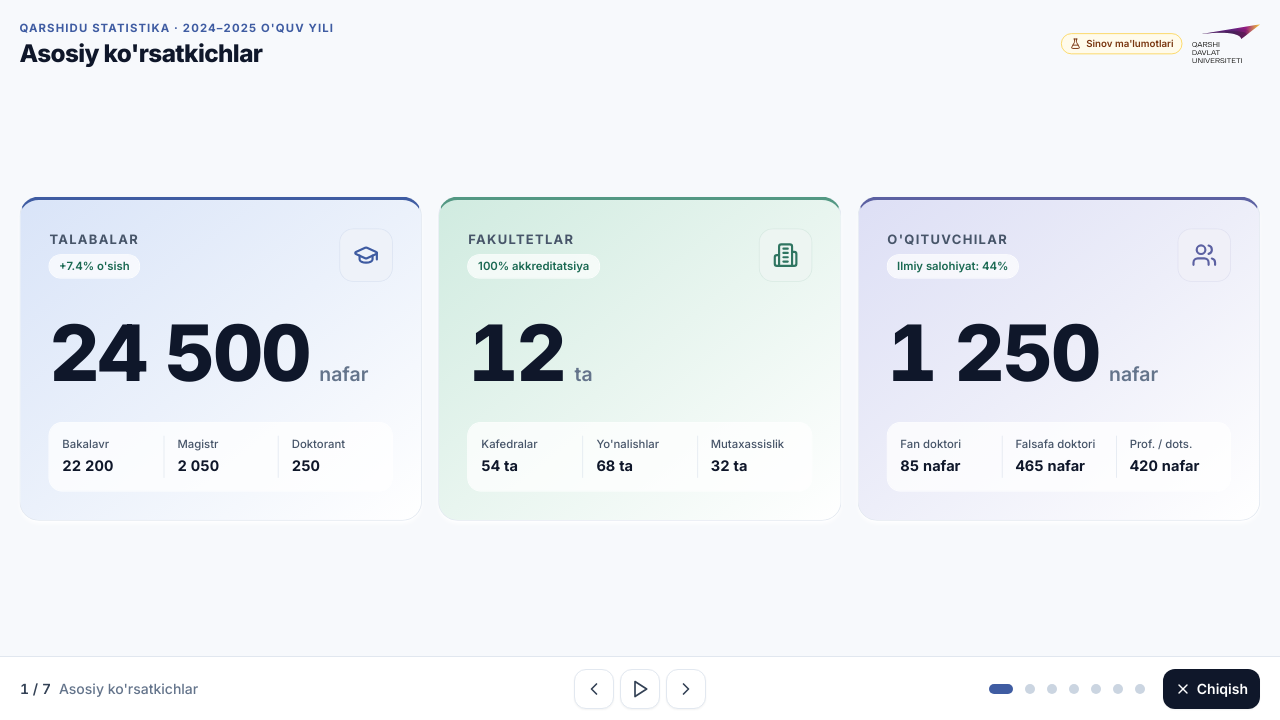
Test: PresentationMode › jumps to a slide from the dot navigation
The image size is (1280, 720).
Click the button named "4-slayd: Ta'lim shakllari va kurslar tahlili".
click(1074, 688)  # box left=1063, top=678, right=1085, bottom=700
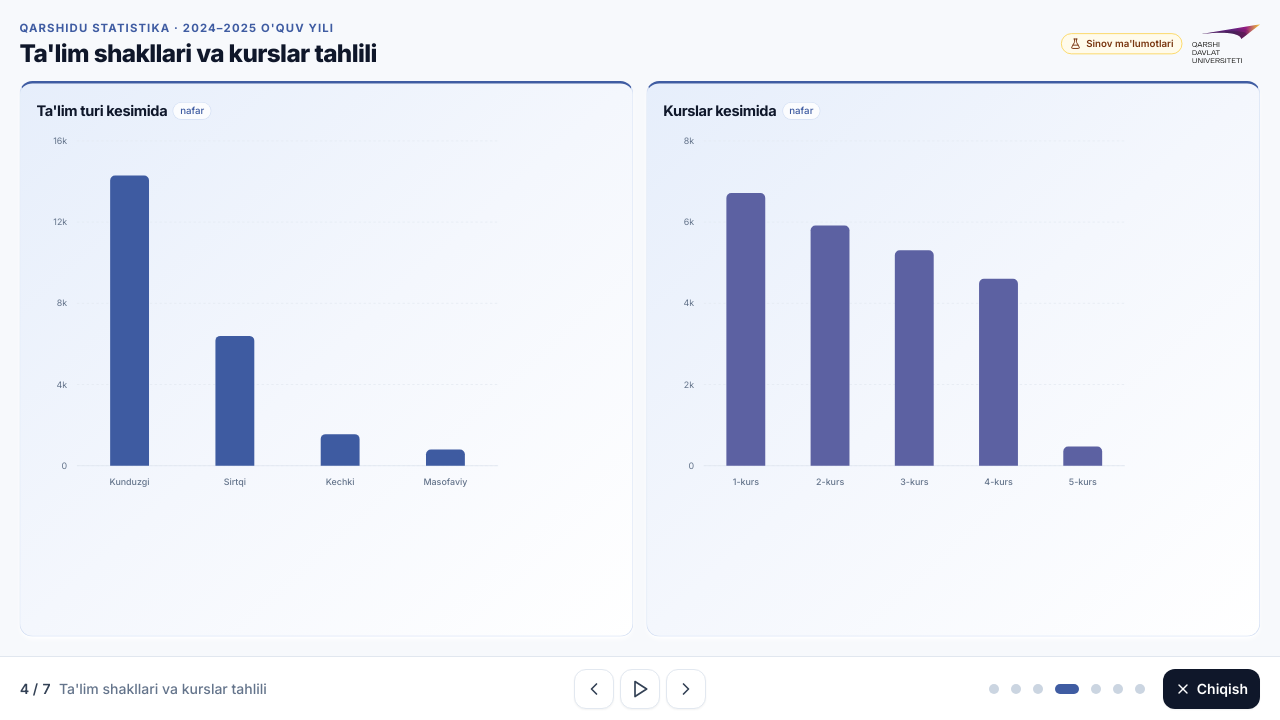
Now the heading "Ta'lim shakllari va kurslar tahlili" is shown, box left=20, top=39, right=377, bottom=68
